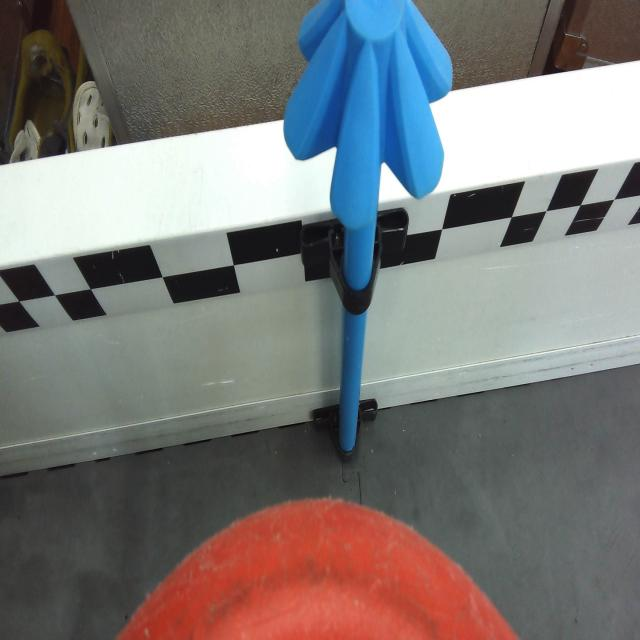zblue-Stake-Head: (284, 0, 454, 230)
